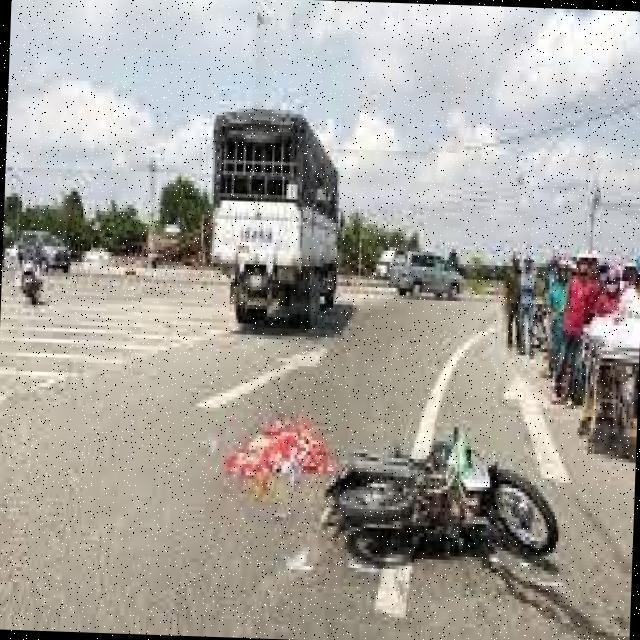accident: (310, 382, 578, 602)
